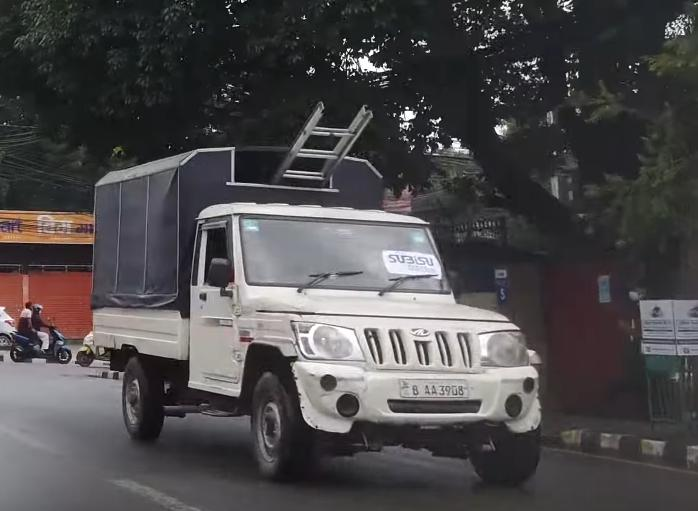scooter: (7, 280, 74, 369)
transport_vehicle: (92, 131, 549, 488)
